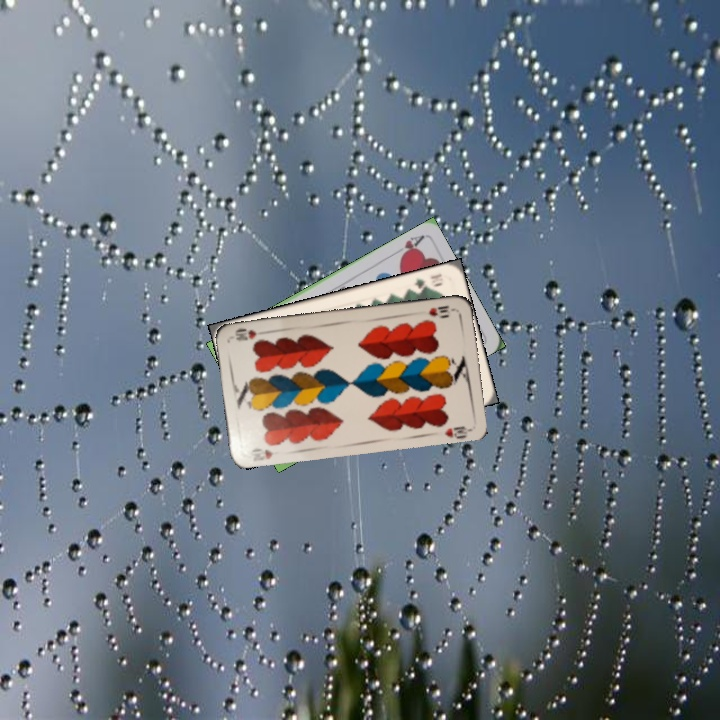G10: (411, 269, 444, 293)
H10: (246, 444, 276, 463), (425, 301, 451, 319)
HA: (389, 231, 426, 261)
